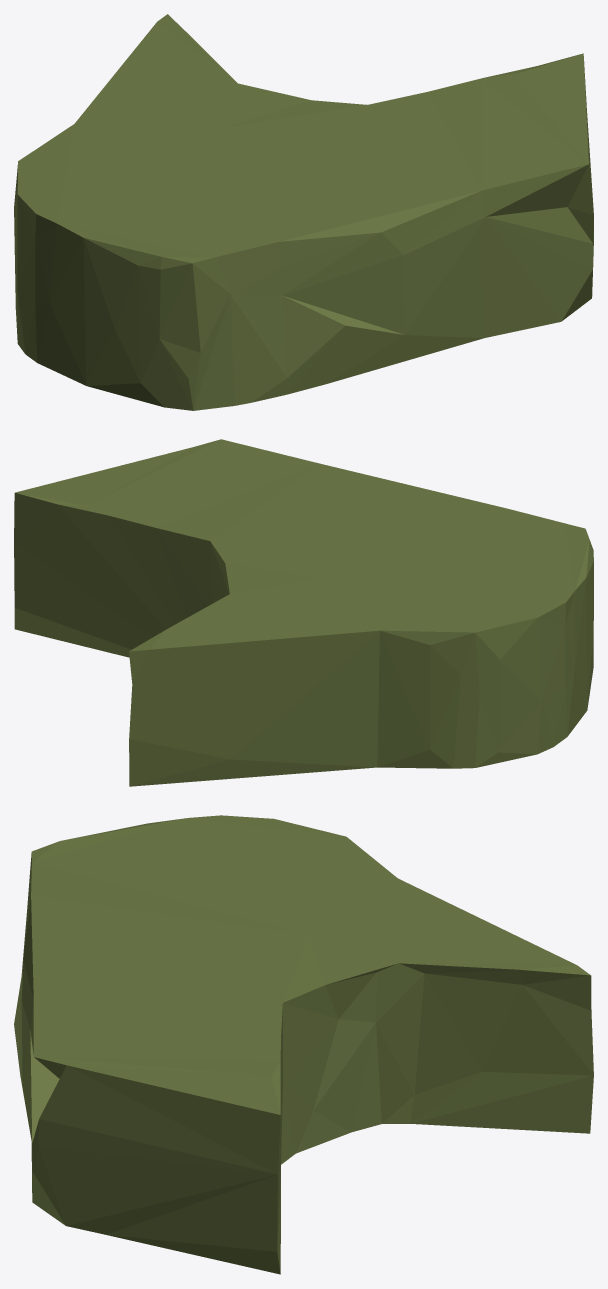
File: ground_13.fbx
3 views of the same model, one above another, from view 1: azimuth 30°, elevation 25°; view 2: azimuth 150°, elevation 25°; view 3: azimuth 270°, elevation 25° (orthographic). The views are drawn at different scales.
Visible parts, largest first — view 1: ground_13; view 2: ground_13; view 3: ground_13.
Boxes of the visible parts, x1=… form: ground_13: x1=14, y1=14, x2=593, y2=410; ground_13: x1=14, y1=439, x2=593, y2=786; ground_13: x1=14, y1=815, x2=593, y2=1274.
Bounding box in the file's own units: 13.94 × 3.47 × 11.36.
